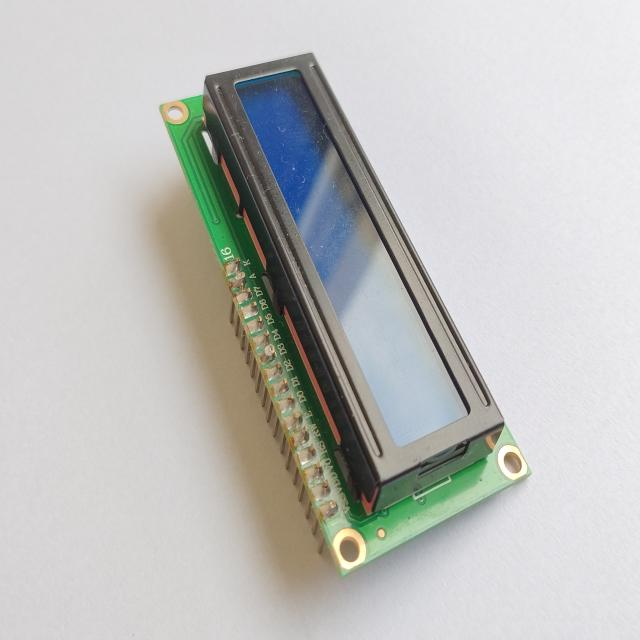lcd: (139, 41, 543, 589)
